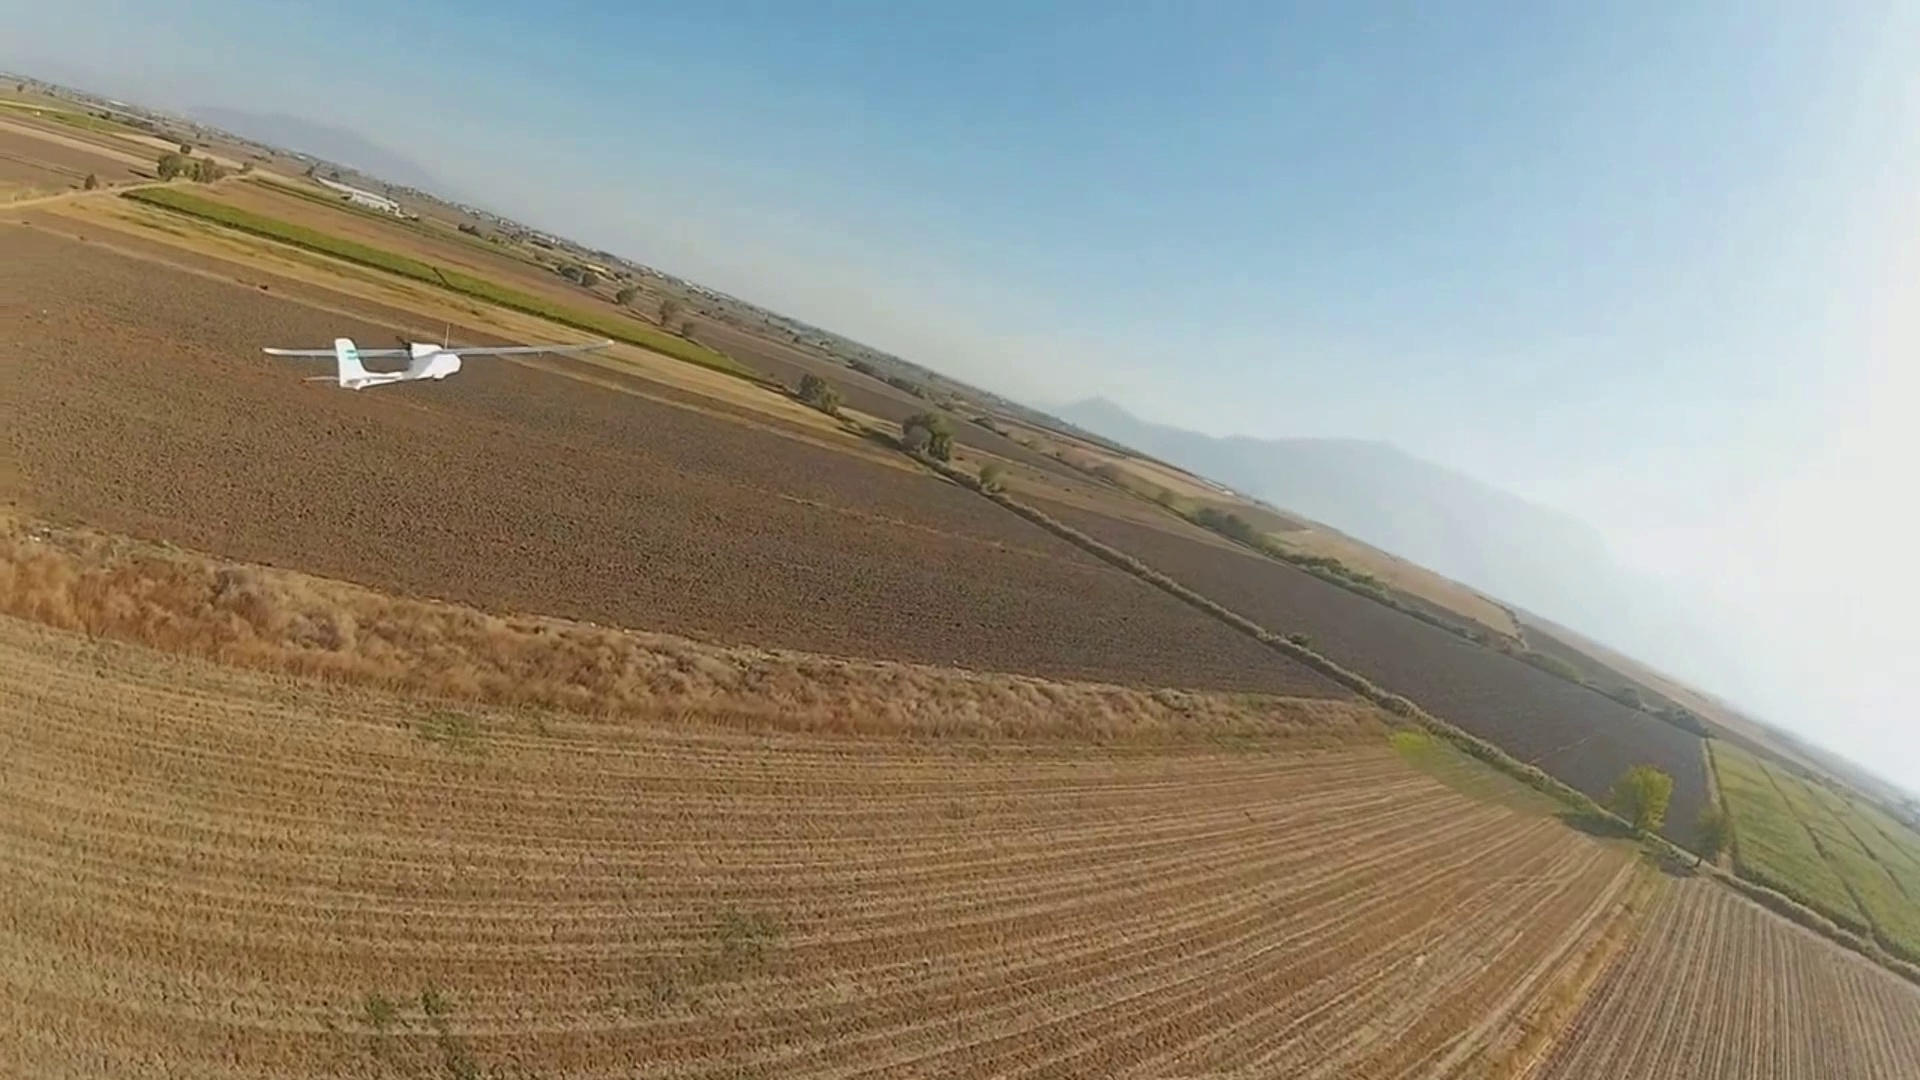airplane: (262, 335, 460, 386)
